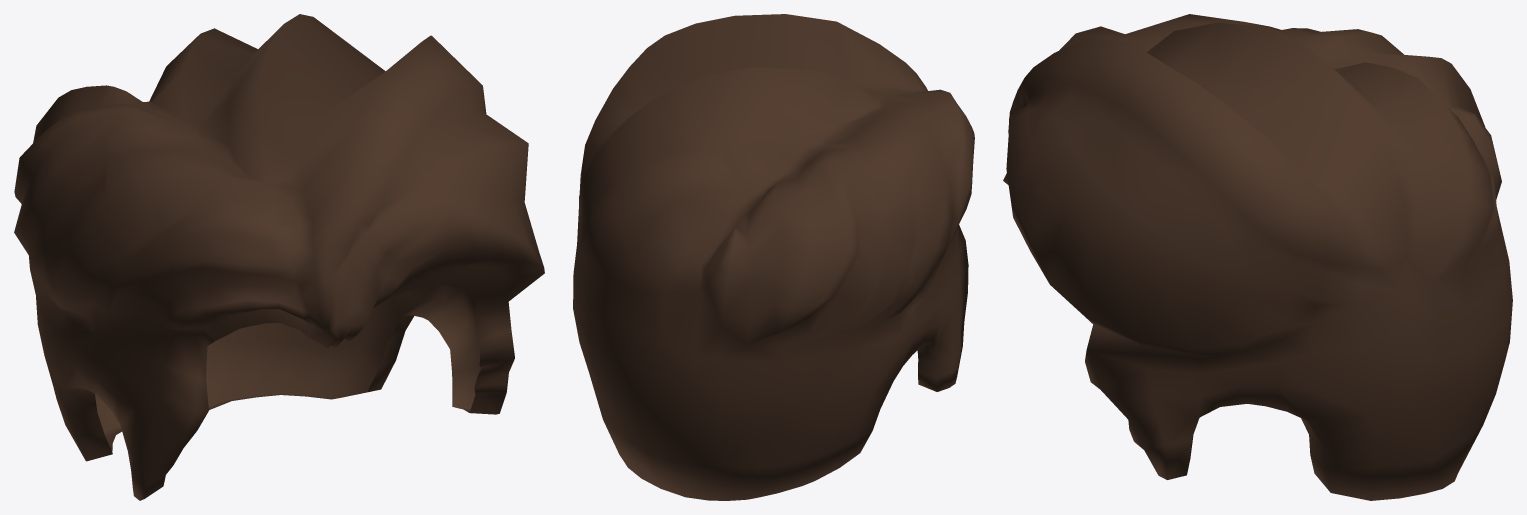
The model's file is hair-simpleparted.glb.
3 views of the same model, side by side, from view 1: azimuth 30°, elevation 25°; view 2: azimuth 150°, elevation 25°; view 3: azimuth 270°, elevation 25° (orthographic). The views are drawn at different scales.
Visible parts, largest first — view 1: Hair_SimpleParted; view 2: Hair_SimpleParted; view 3: Hair_SimpleParted.
Part boxes in pixels (box(x1,y1,x2,y2)): Hair_SimpleParted: box(14, 14, 544, 500); Hair_SimpleParted: box(573, 14, 974, 500); Hair_SimpleParted: box(1003, 14, 1512, 500).
Bounding box in the file's own units: 0.1754 × 0.1792 × 0.1869.
